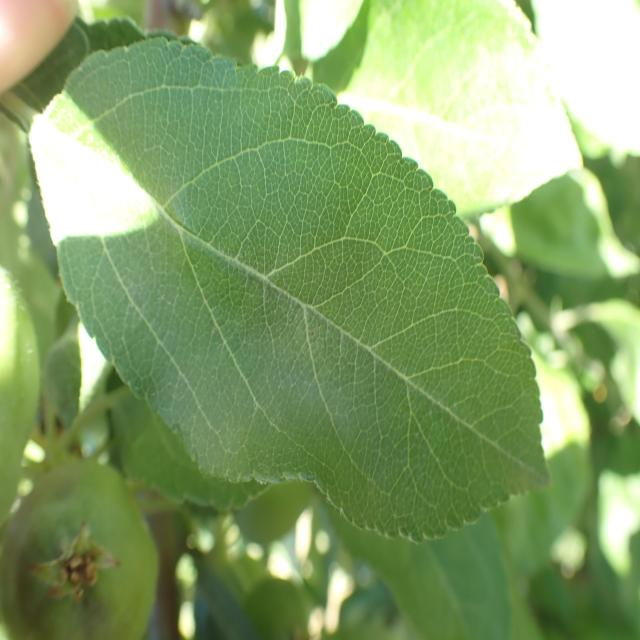healthy: (27, 36, 551, 544), (338, 0, 584, 221)
